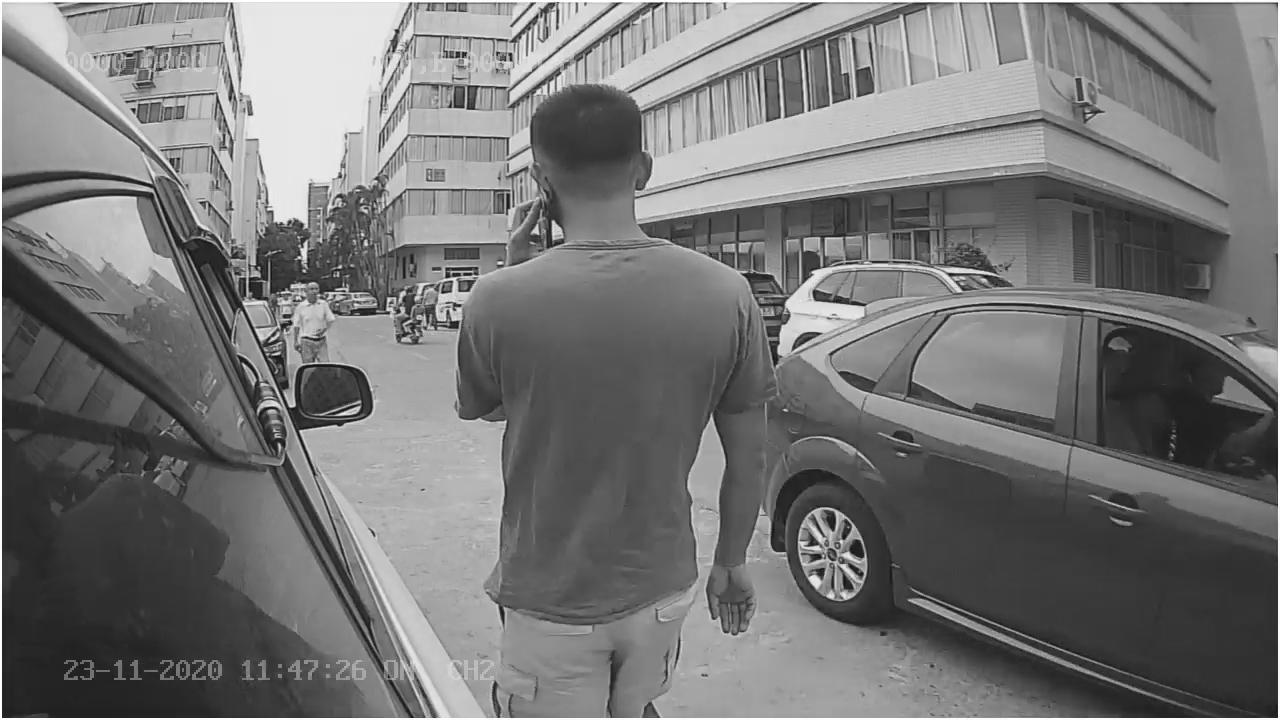person: (442, 71, 777, 633)
